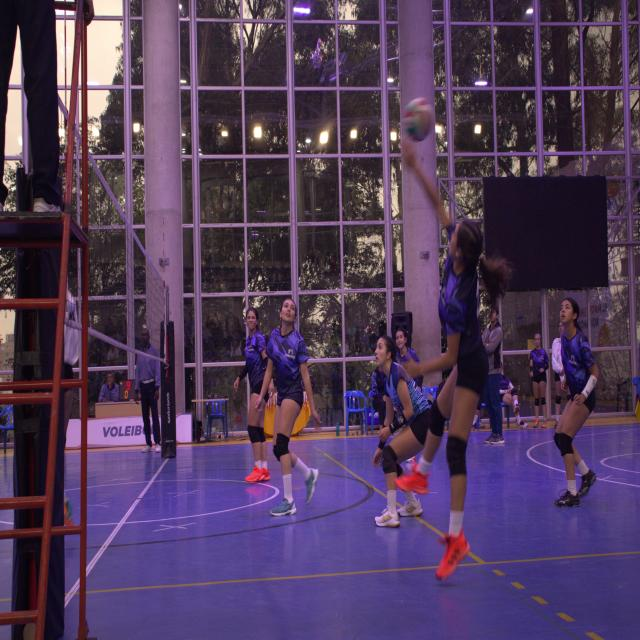volleyball: (403, 96, 432, 144)
